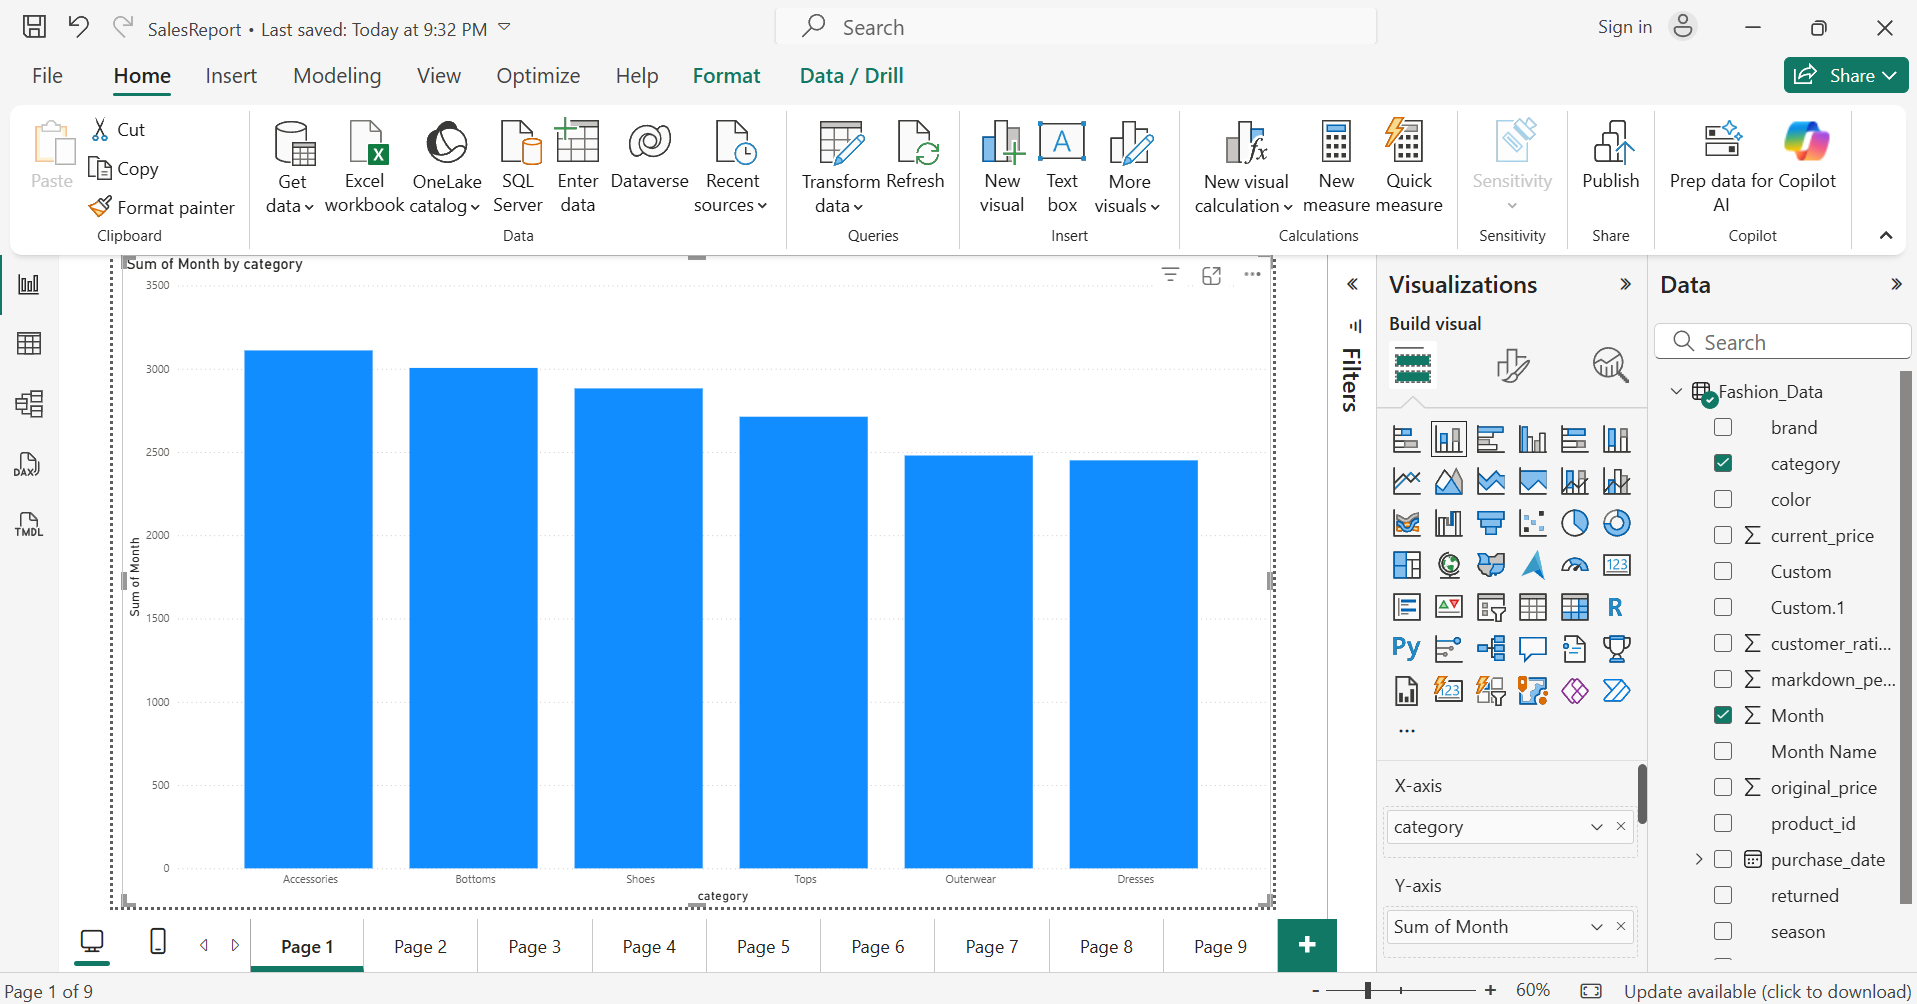

The dashboard page shown, as its layout file describes it:
{"tool":"powerbi","page":{"name":"Page 1","canvas":[1280,720],"ordinal":0},"visuals":[{"type":"columnChart","fields":{"Y":["Sum(Fashion_Data.Month)"],"Category":["Fashion_Data.category"]},"box":[9.4,0,1269.9,720],"z":0}]}

Visuals, with their boxes on the page's 1280x720 design canvas (x1, y1, x2, y2). These are canvas units, not pixel positions in the 1917x1004 screenshot, which may show the page scaled, cropped or inside an application window:
columnChart - Sum(Fashion_Data.Month) x Fashion_Data.category: crop(9, 0, 1279, 720)
